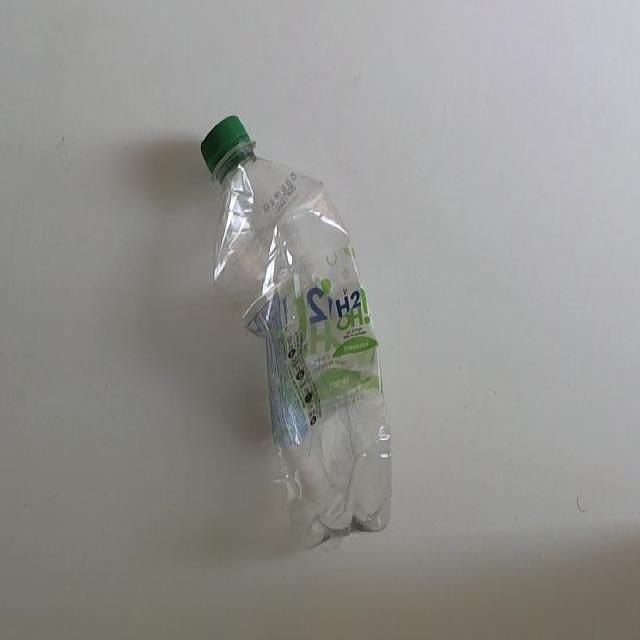defect: (197, 110, 395, 558)
